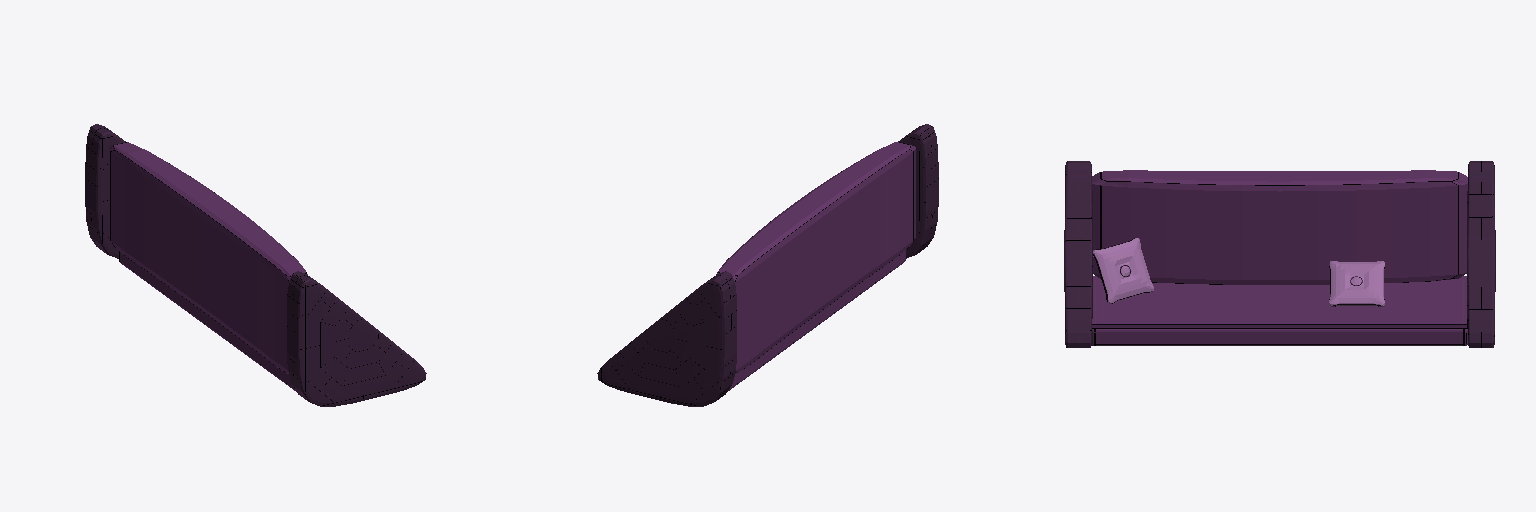
3 views of the same model, side by side, from view 1: azimuth 30°, elevation 25°; view 2: azimuth 150°, elevation 25°; view 3: azimuth 270°, elevation 25° (orthographic).
Parts seen in each view (by area): view 1: Box011, Box010, Box012, ChamferBox001; view 2: Box011, Box012, Box010, ChamferBox001; view 3: Box011, ChamferBox002, ChamferBox001, Box010, Box012, ChamferBox008, ChamferBox009.
Part boxes in pixels (bbox=[...]): Box011: bbox=[108, 142, 307, 373]; Box010: bbox=[287, 271, 426, 406]; Box012: bbox=[85, 124, 125, 258]; ChamferBox001: bbox=[119, 251, 295, 390]; Box011: bbox=[716, 142, 915, 373]; Box012: bbox=[597, 271, 736, 406]; Box010: bbox=[898, 124, 938, 258]; ChamferBox001: bbox=[728, 250, 905, 390]; Box011: bbox=[1092, 170, 1467, 284]; ChamferBox002: bbox=[1092, 276, 1467, 328]; ChamferBox001: bbox=[1092, 329, 1467, 345]; Box010: bbox=[1064, 161, 1092, 347]; Box012: bbox=[1467, 161, 1495, 347]; ChamferBox008: bbox=[1093, 238, 1153, 303]; ChamferBox009: bbox=[1329, 261, 1384, 306].
Size of the model in its own units: 43.48 by 43.48 by 126.
3 materials, 3 textured.